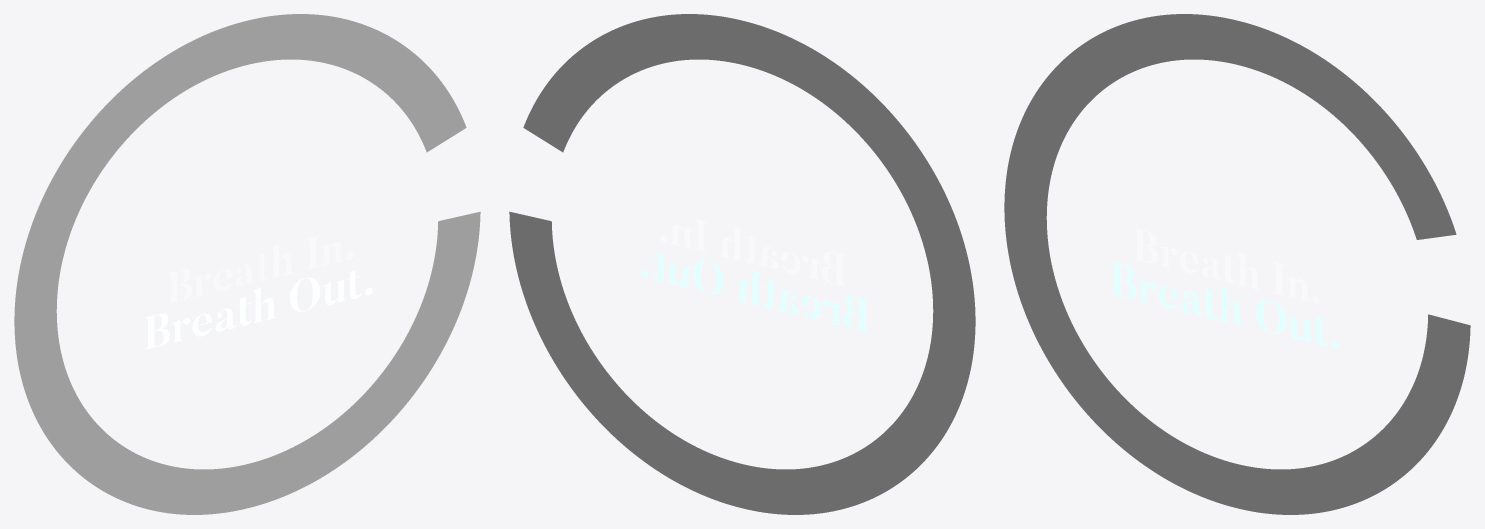
Rendered from Mindful Circle2.fbx.
The picture shows the model from 3 angles, left to right: view 1: azimuth 30°, elevation 25°; view 2: azimuth 150°, elevation 25°; view 3: azimuth 330°, elevation 25°; orthographic projection.
Visible parts, largest first — view 1: Circle, Text.001, Text; view 2: Circle, Text.001, Text; view 3: Circle, Text.001, Text.
Boxes of the visible parts, left/top/right/bottom form: Circle: left=14, top=14, right=480, bottom=514; Text.001: left=145, top=270, right=372, bottom=349; Text: left=169, top=236, right=353, bottom=303; Circle: left=509, top=14, right=975, bottom=514; Text.001: left=641, top=253, right=867, bottom=332; Text: left=660, top=219, right=844, bottom=285; Circle: left=1004, top=14, right=1470, bottom=514; Text.001: left=1112, top=262, right=1338, bottom=348; Text: left=1135, top=229, right=1319, bottom=303.
Bounding box in the file's own units: 220 × 220 × 9.69.
